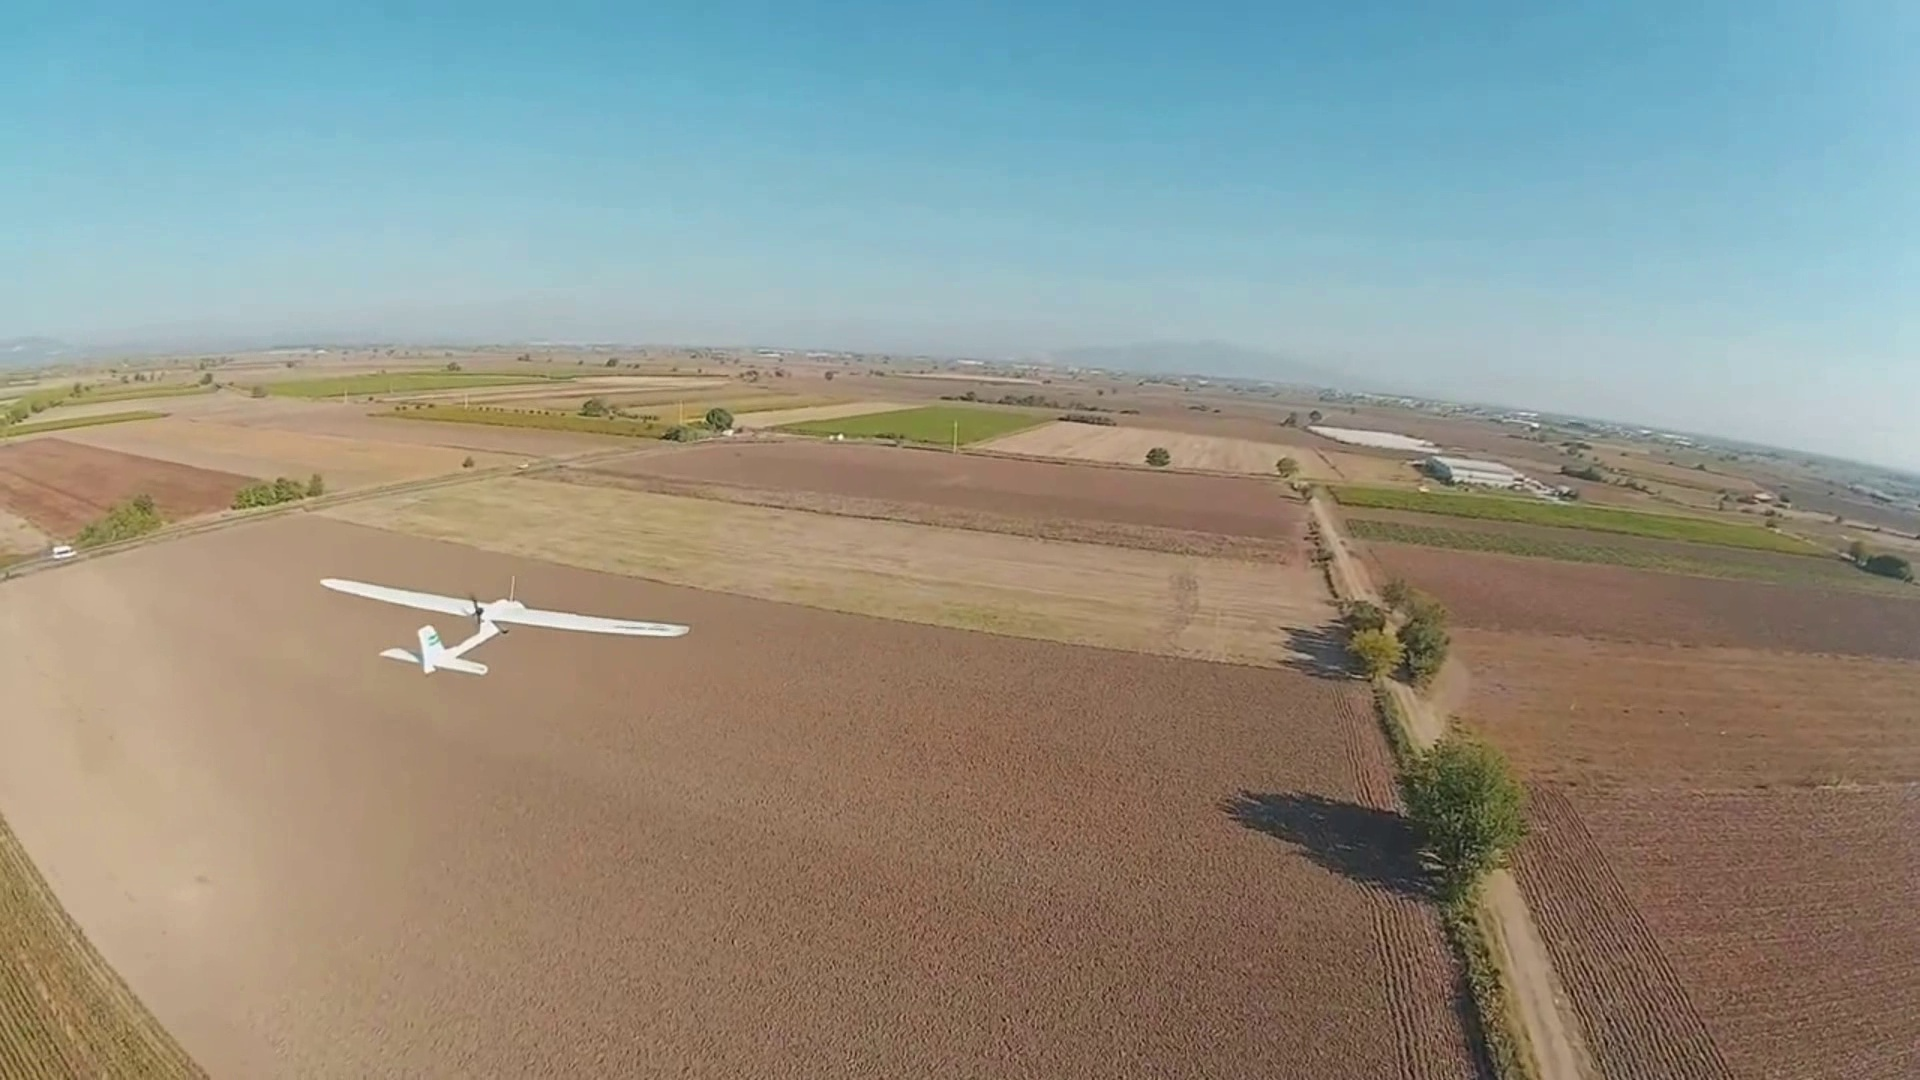airplane: (319, 574, 690, 680)
